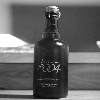beer: (33, 4, 79, 100)
